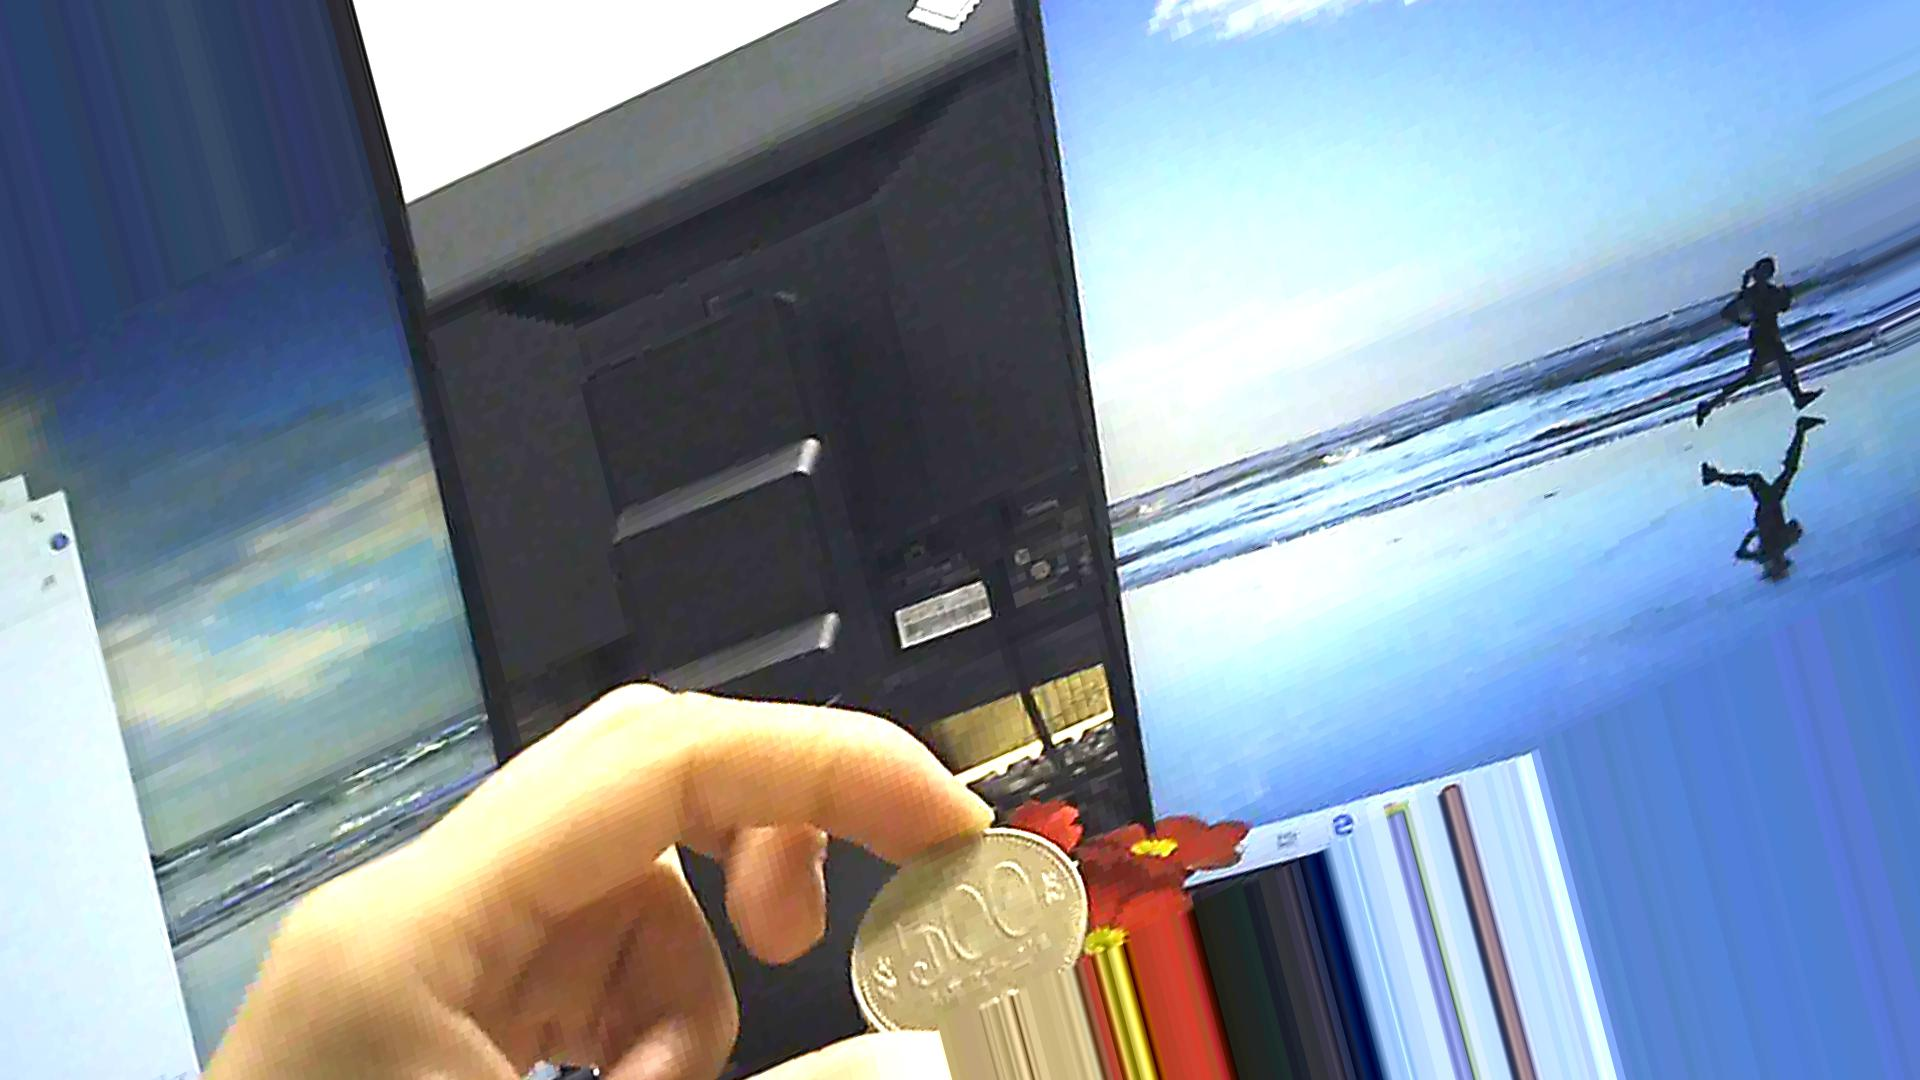500 Yen: (848, 818, 1097, 1030)
